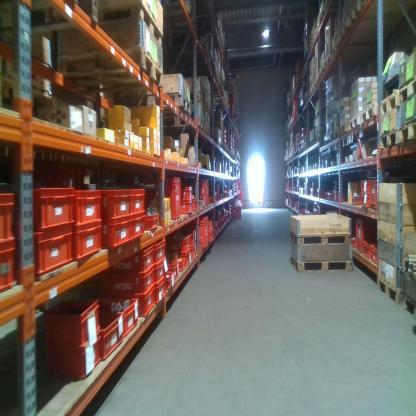pallets: (28, 42, 169, 84), (49, 3, 161, 47), (375, 273, 415, 321), (374, 79, 416, 119), (376, 116, 415, 158), (288, 226, 350, 248), (289, 255, 353, 274), (334, 111, 375, 140)
